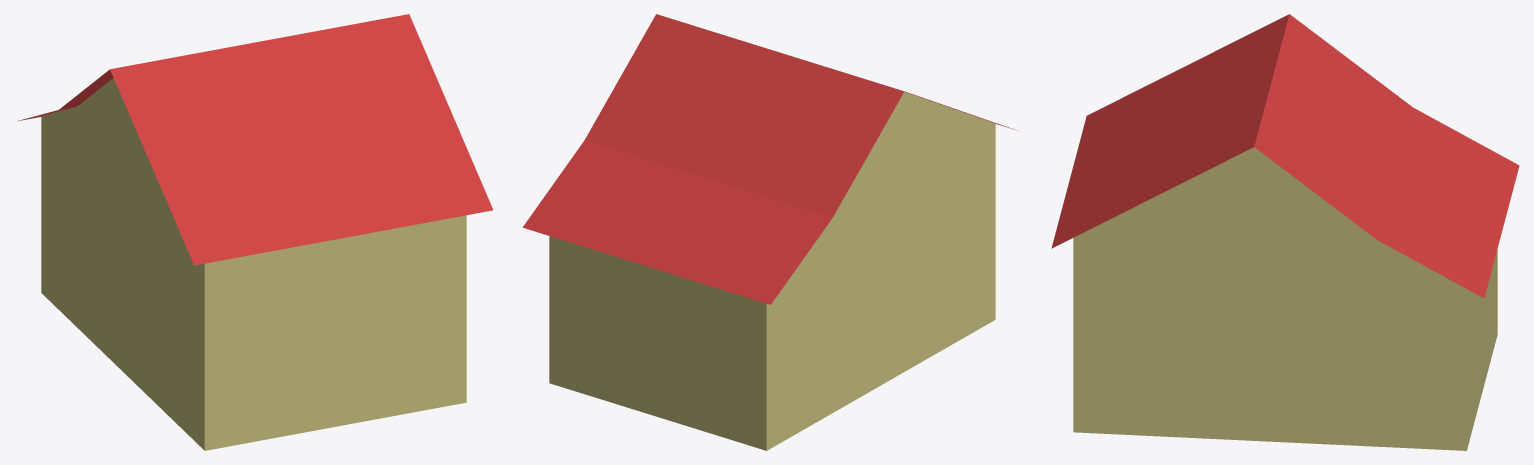
The picture shows the model from 3 angles, left to right: view 1: azimuth 30°, elevation 25°; view 2: azimuth 150°, elevation 25°; view 3: azimuth 270°, elevation 25°; orthographic projection. The views are drawn at different scales.
Size of the model in its own units: 13.73 by 17.7 by 12.61.
